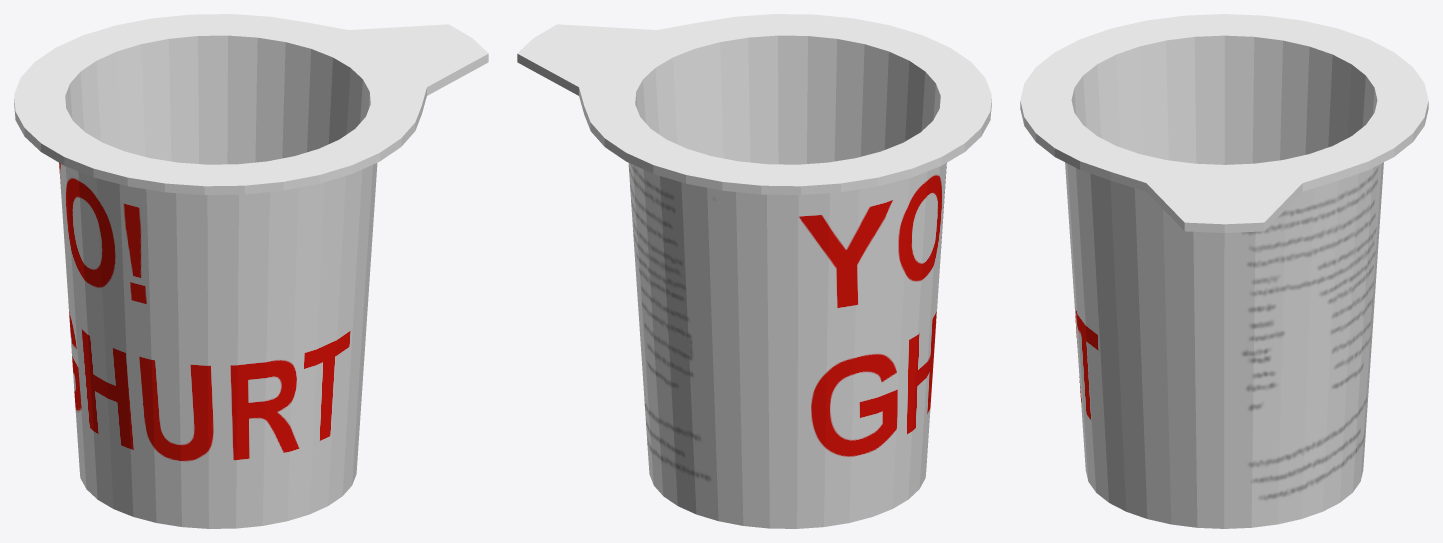
File: yoghurt.fbx
3 views of the same model, side by side, from view 1: azimuth 30°, elevation 25°; view 2: azimuth 150°, elevation 25°; view 3: azimuth 270°, elevation 25° (orthographic).
Parts seen in each view (by area): view 1: Cylinder.046; view 2: Cylinder.046; view 3: Cylinder.046.
Boxes of the visible parts, x1,y1,x2,y2 form: Cylinder.046: (14, 14, 488, 528); Cylinder.046: (517, 14, 991, 528); Cylinder.046: (1020, 14, 1428, 528).
Size of the model in its own units: 359 by 294 by 294.
